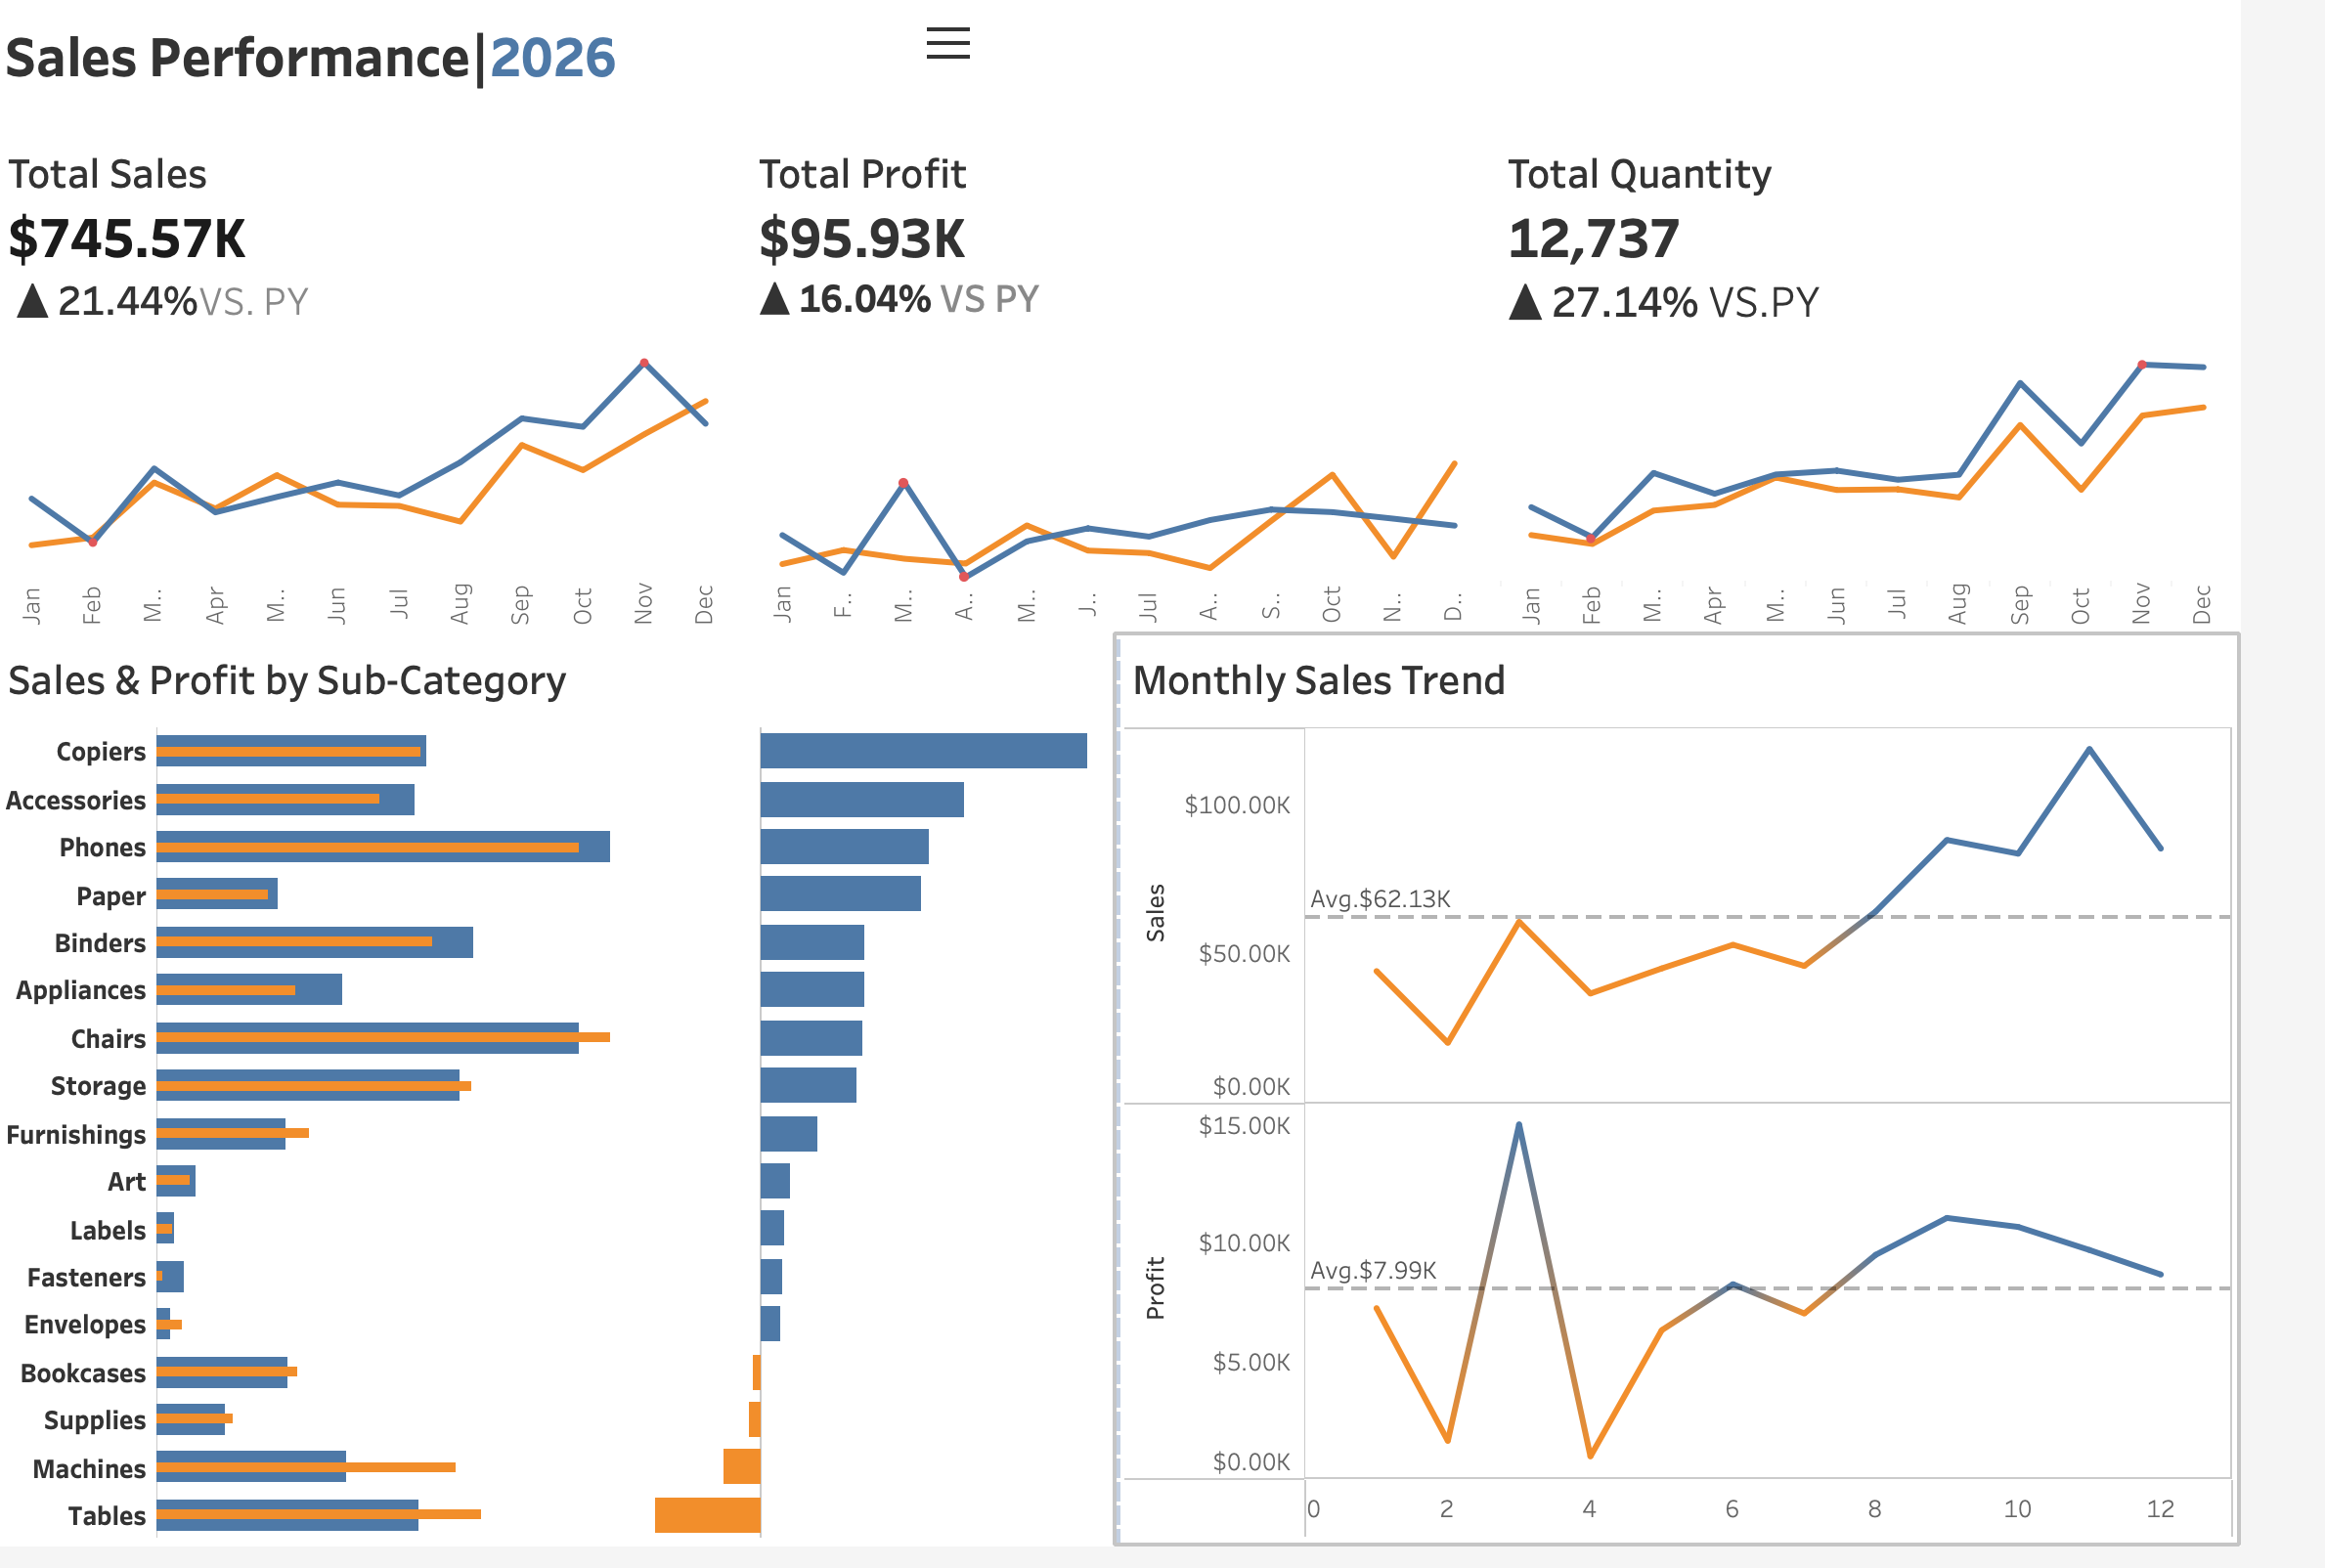

The page's visual inventory and layout, read from the dashboard file:
{"tool":"tableau","page":{"name":"Sales Dashboard","canvas":[1150,800],"ordinal":0},"visuals":[{"type":"text","box":[0,0,1150,75]},{"type":"worksheet","title":"KPI Sales","mark":"Line","rows":["Calculation_5372747439034370"],"cols":["order_date"],"box":[0,75,383.2,227]},{"type":"worksheet","title":"KPI Profit","mark":"Automatic","rows":["Calculation_5372747462787080"],"cols":["order_date"],"box":[383.2,75,383.2,227]},{"type":"worksheet","title":"KPI Quantity","mark":"Automatic","rows":["Calculation_5372747766190096"],"cols":["order_date"],"box":[766.5,75,383.2,227]},{"type":"worksheet","title":"Sales& Profit by sub_category","mark":"Bar","rows":["sub_category"],"cols":["Calculation_4611746882375681","CY Sales (copy)_4611746883149826","Calculation_5372747459756037"],"box":[0,302,618,498]},{"type":"worksheet","title":"Monthly Sales Trend","mark":"Line","rows":["Calculation_4611746882375681","Calculation_5372747459756037"],"cols":["order_date"],"box":[618,302,532,498]}]}

Visuals, with their boxes on the page's 1150x800 design canvas (x1, y1, x2, y2). These are canvas units, not pixel positions in the 2325x1568 screenshot, which may show the page scaled, cropped or inside an application window:
text: locate(0, 0, 1150, 75)
"KPI Sales" worksheet (Line marks): locate(0, 75, 383, 302)
"KPI Profit" worksheet: locate(383, 75, 766, 302)
"KPI Quantity" worksheet: locate(766, 75, 1150, 302)
"Sales& Profit by sub_category" worksheet (Bar marks): locate(0, 302, 618, 800)
"Monthly Sales Trend" worksheet (Line marks): locate(618, 302, 1150, 800)
